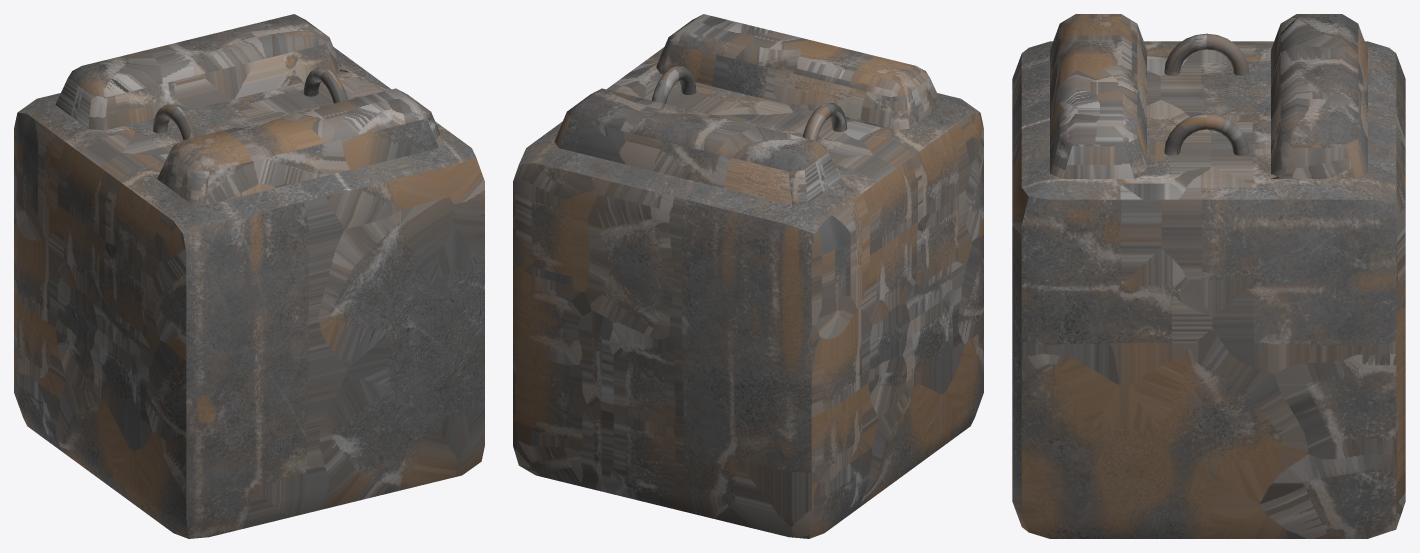
3 renders of one model, left to right at view 1: azimuth 30°, elevation 25°; view 2: azimuth 150°, elevation 25°; view 3: azimuth 270°, elevation 25°, orthographic. The views are drawn at different scales.
Parts seen in each view (by area): view 1: LOD0; view 2: LOD0; view 3: LOD0.
Part boxes in pixels (box(x1,y1,x2,y2)): LOD0: box(14, 14, 484, 538); LOD0: box(513, 14, 983, 538); LOD0: box(1012, 14, 1405, 538).
Size of what is drawn, in the model's own units: 76.2 by 84.57 by 76.2.
1 material, 1 textured.
